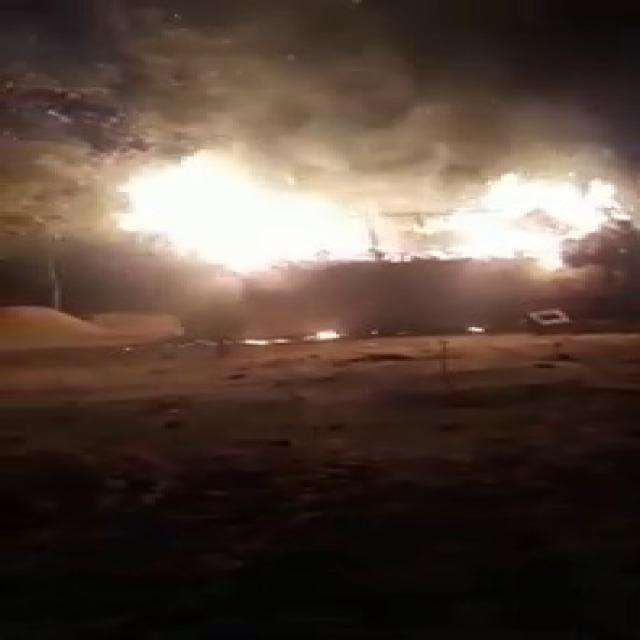Fire: (135, 168, 356, 260), (470, 176, 597, 260)
